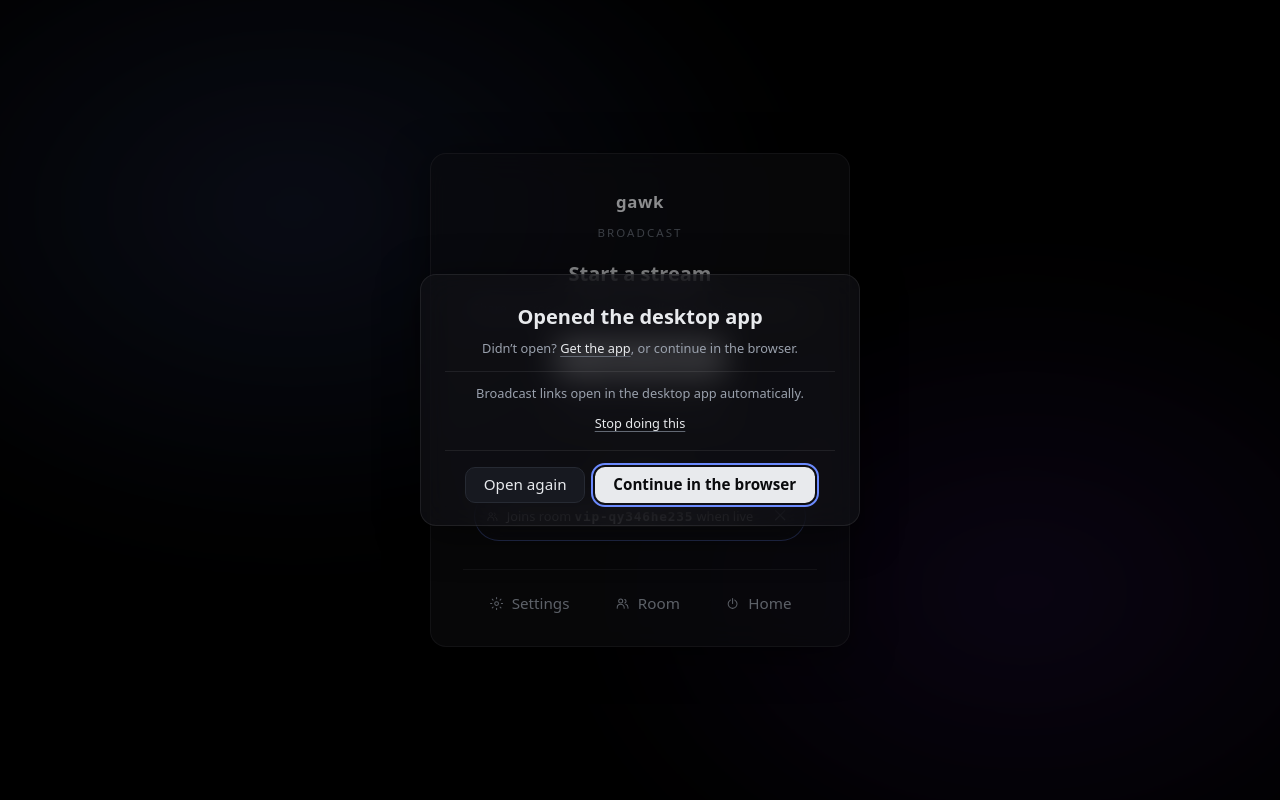
it: automatic launch (D5) › "Stop doing this" forgets the choice
Click the button "Stop doing this" at (640, 423), box [595, 407, 685, 439]
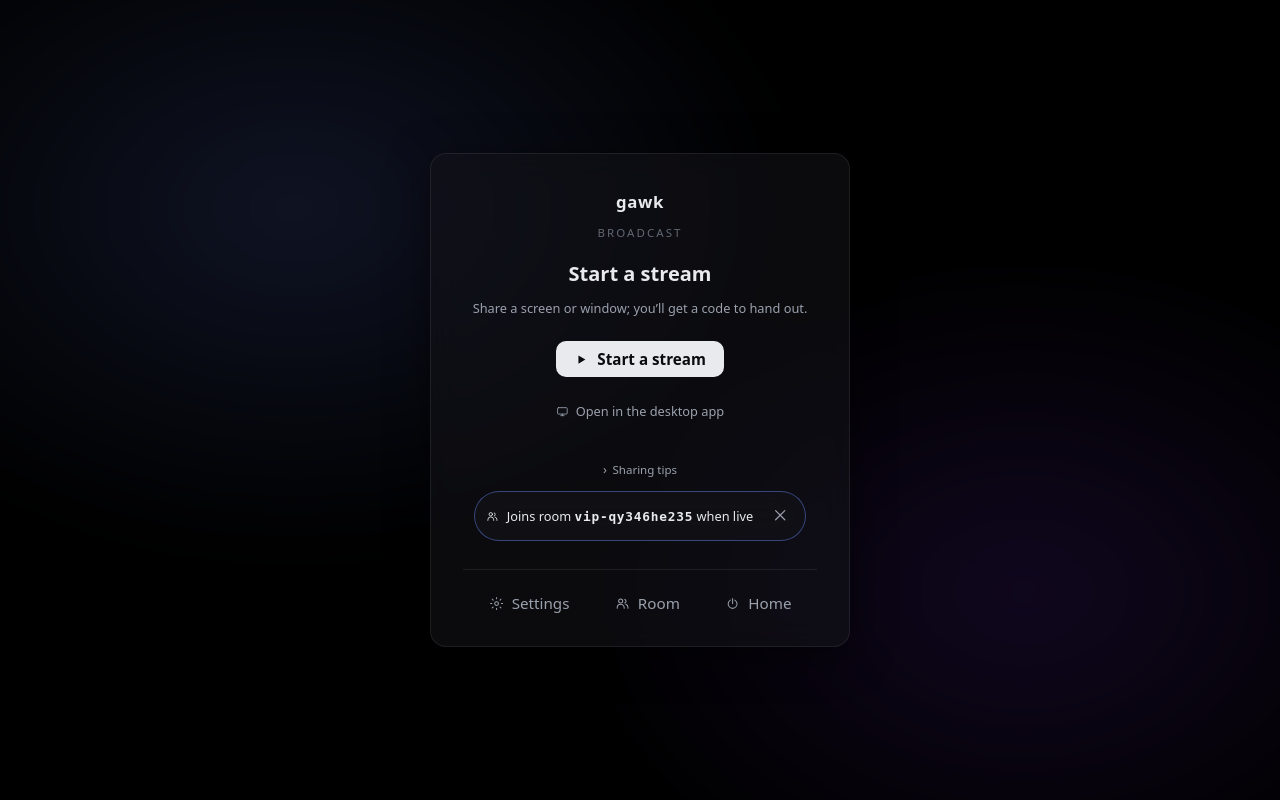
expect the dialog with test id "desktop-handoff-modal" is gone: met
